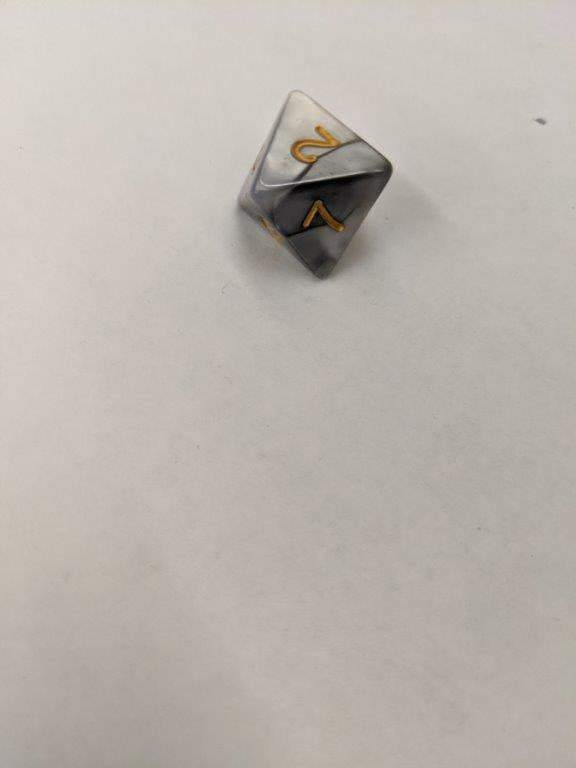d8-2: (236, 90, 392, 276)
